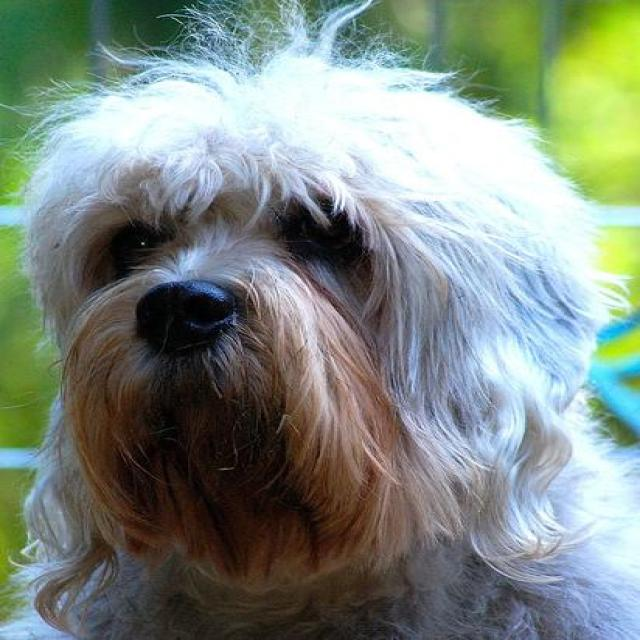dandie_dinmont: (0, 1, 637, 638)
